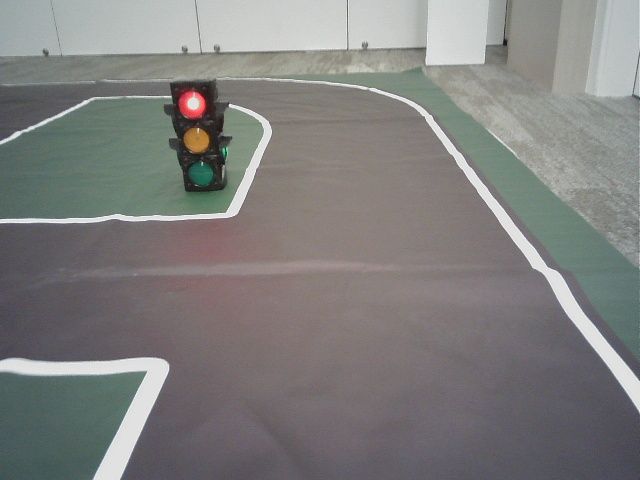red: (174, 84, 216, 187)
